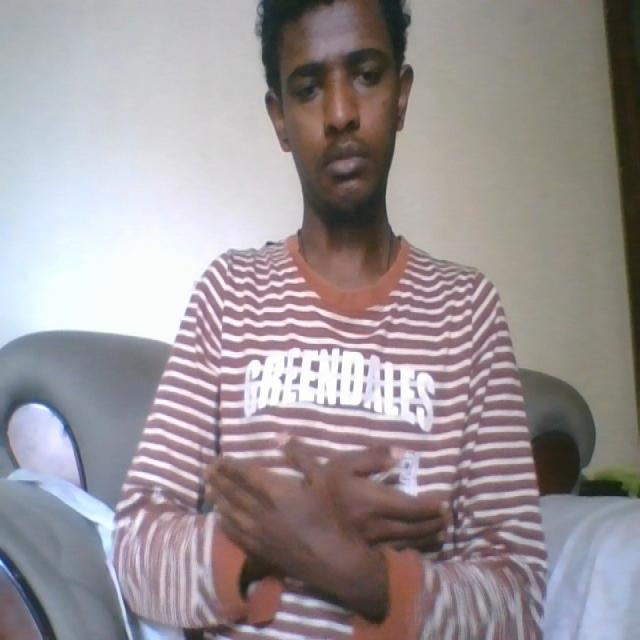lij: (199, 428, 454, 604)
